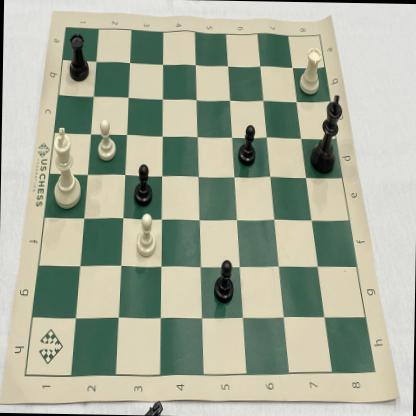black-king: (306, 90, 346, 182)
black-pawn: (207, 252, 237, 310), (232, 119, 260, 171), (128, 158, 156, 208)
black-rook: (63, 28, 92, 86)
white-king: (46, 121, 86, 214)
white-pawn: (132, 211, 160, 262), (93, 116, 120, 166)
white-rook: (295, 42, 324, 101)
